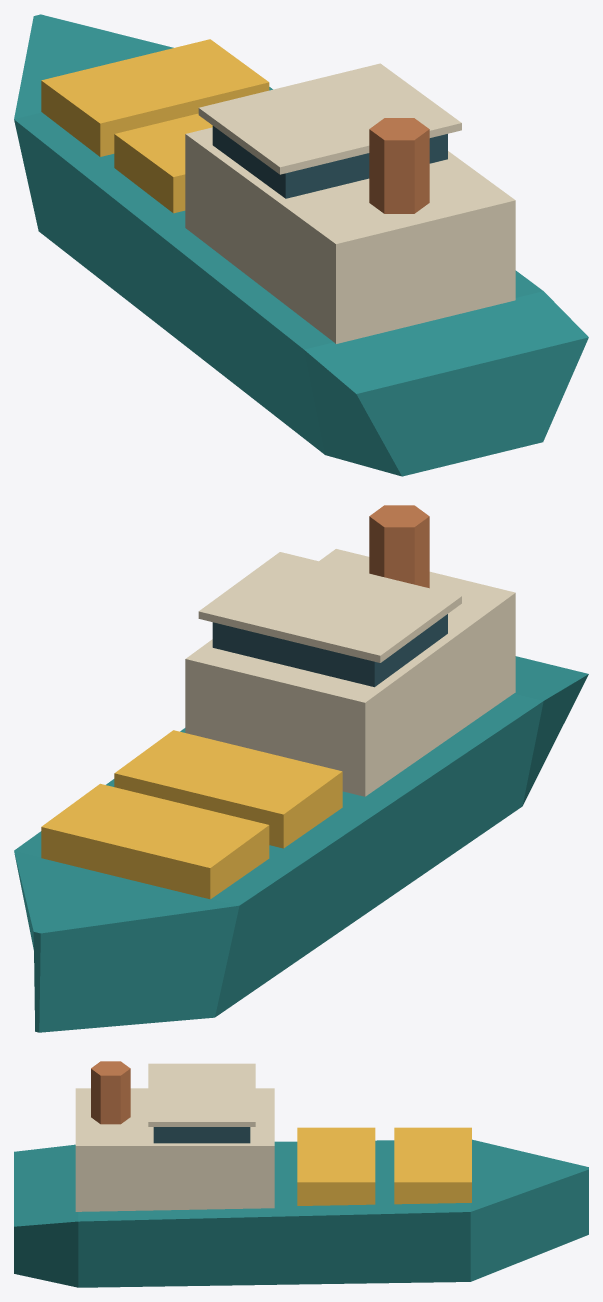
Rendered from ship_far.glb.
The picture shows the model from 3 angles, top to bottom: view 1: azimuth 30°, elevation 25°; view 2: azimuth 150°, elevation 25°; view 3: azimuth 270°, elevation 25°; orthographic projection. The views are drawn at different scales.
Visible parts, largest first — view 1: Harbor hull, ShipModel traffic_cream.001, ShipModel traffic_gold, Funnel, Bridge glass; view 2: Harbor hull, ShipModel traffic_cream.001, ShipModel traffic_gold, Bridge glass, Funnel; view 3: Harbor hull, ShipModel traffic_cream.001, ShipModel traffic_gold, Funnel, Bridge glass.
Boxes of the visible parts, x1,y1,x2,y2 form: Harbor hull: (14, 14, 588, 476); ShipModel traffic_cream.001: (185, 63, 515, 343); ShipModel traffic_gold: (41, 39, 269, 213); Funnel: (369, 118, 429, 213); Bridge glass: (212, 126, 447, 198); Harbor hull: (14, 656, 588, 1032); ShipModel traffic_cream.001: (185, 549, 515, 796); ShipModel traffic_gold: (41, 730, 342, 899); Bridge glass: (212, 614, 447, 687); Funnel: (369, 505, 429, 588); Harbor hull: (14, 1139, 588, 1287); ShipModel traffic_cream.001: (75, 1063, 274, 1211); ShipModel traffic_gold: (297, 1127, 471, 1205); Funnel: (91, 1061, 130, 1124); Bridge glass: (153, 1127, 250, 1143).
Bounding box in the file's own units: 3.4 × 3.85 × 10.7.
